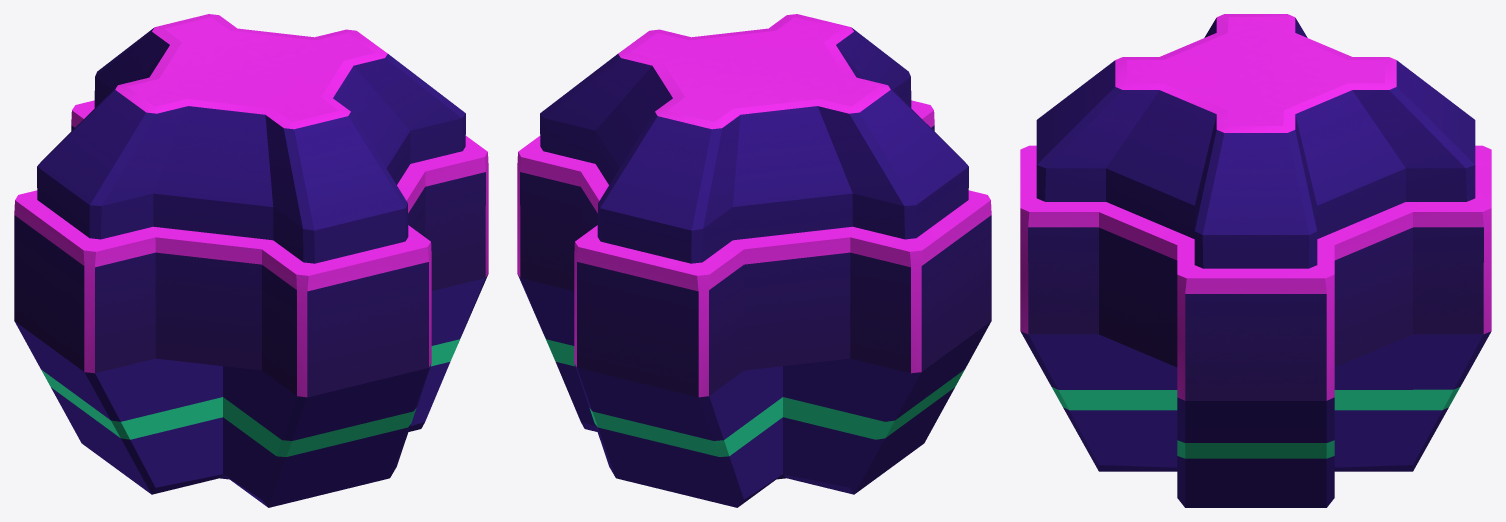
The model's file is Tower_dwarf.fbx.
The picture shows the model from 3 angles, left to right: view 1: azimuth 30°, elevation 25°; view 2: azimuth 150°, elevation 25°; view 3: azimuth 270°, elevation 25°; orthographic projection.
Visible parts, largest first — view 1: Top1; view 2: Top1; view 3: Top1.
Part boxes in pixels (box(x1,y1,x2,y2)): Top1: box(14, 14, 488, 507); Top1: box(517, 14, 991, 507); Top1: box(1020, 14, 1491, 507).
Bounding box in the file's own units: 311 × 269 × 311.
